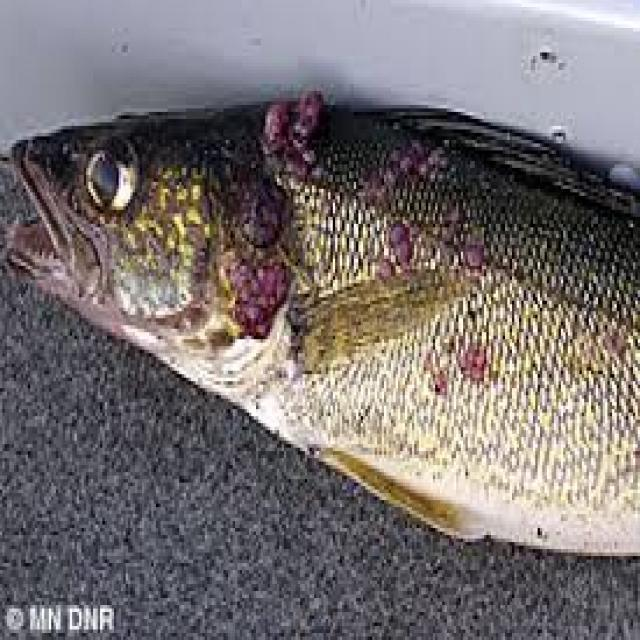EUS Disease: (8, 100, 640, 564), (117, 87, 640, 482)
